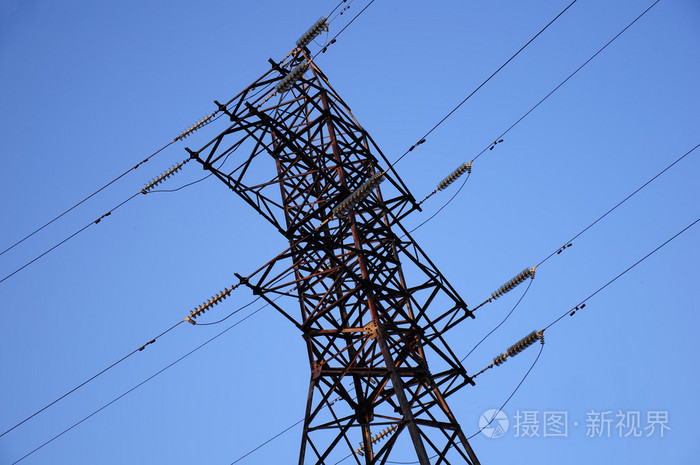insulator: (328, 170, 387, 219), (488, 329, 539, 368), (187, 285, 231, 319), (490, 265, 531, 298), (139, 162, 179, 192), (274, 61, 308, 96), (292, 16, 329, 47), (434, 160, 470, 190), (173, 113, 212, 140), (362, 422, 401, 446)
